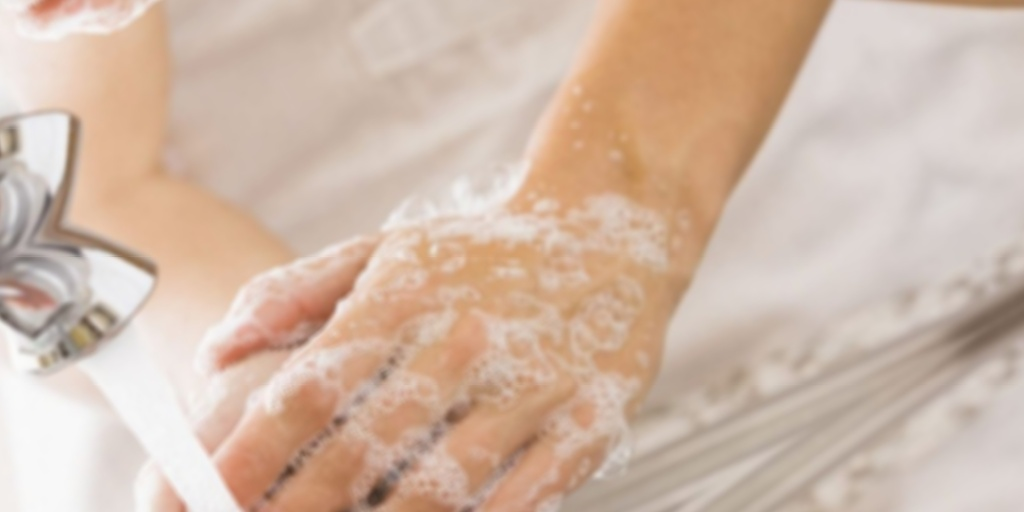washing hand: (0, 0, 819, 511)
